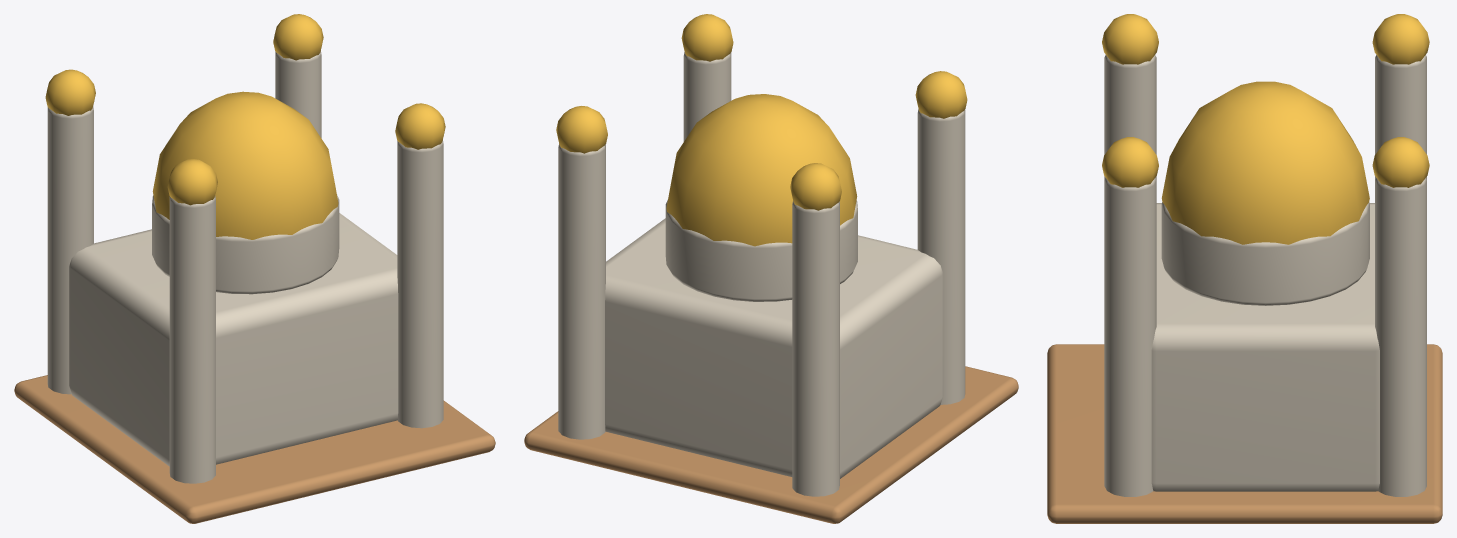
The picture shows the model from 3 angles, left to right: view 1: azimuth 30°, elevation 25°; view 2: azimuth 150°, elevation 25°; view 3: azimuth 270°, elevation 25°; orthographic projection. The views are drawn at different scales.
Visible parts, largest first — view 1: Cube; view 2: Cube; view 3: Cube.
Part boxes in pixels (bbox=[...]): Cube: bbox=[14, 14, 495, 523]; Cube: bbox=[524, 14, 1018, 523]; Cube: bbox=[1047, 14, 1442, 523].
Bounding box in the file's own units: 0.76 × 0.775 × 0.76.
